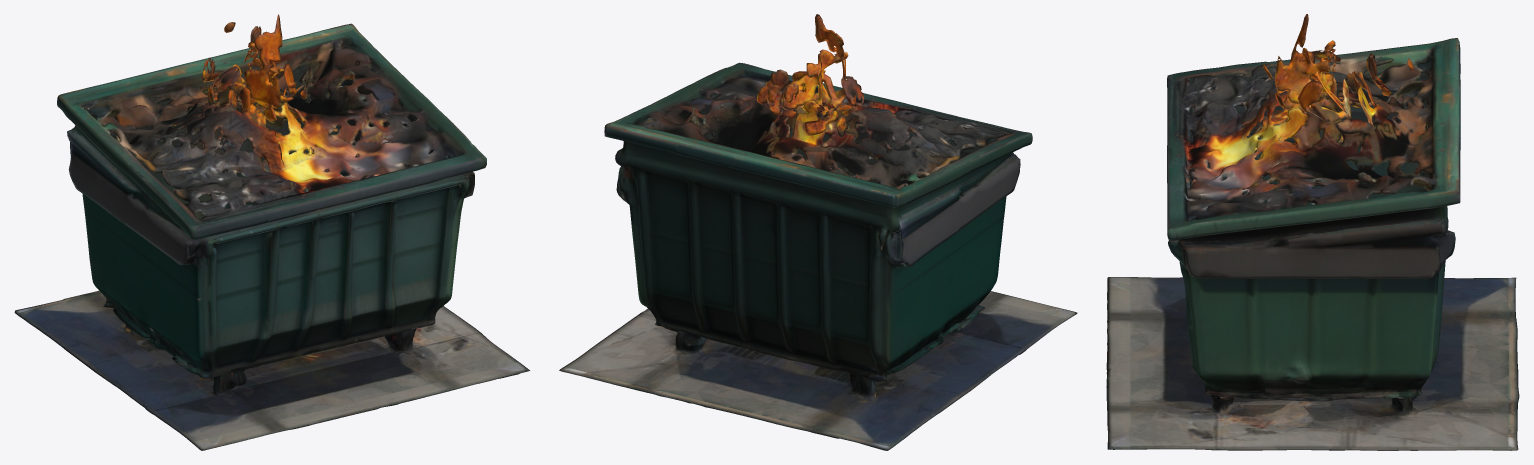
Rendered from a1c0e850-d43d-43ce-9891-1cbf3727cada.glb.
3 renders of one model, left to right at view 1: azimuth 30°, elevation 25°; view 2: azimuth 150°, elevation 25°; view 3: azimuth 270°, elevation 25°, orthographic. The views are drawn at different scales.
Bounding box in the file's own units: 2 × 1.89 × 2.
Materials: 1 (1 with a texture image).
